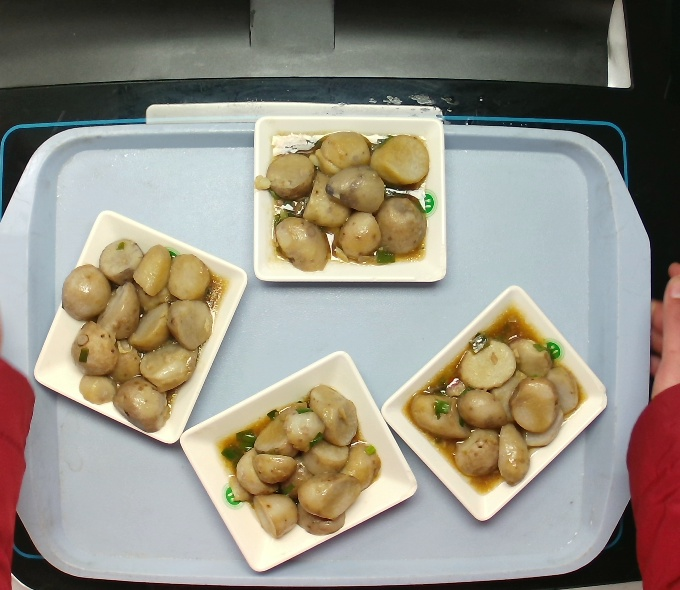wcq-YuTou: (394, 302, 595, 503), (58, 235, 236, 437), (211, 380, 385, 545), (249, 125, 434, 277)
